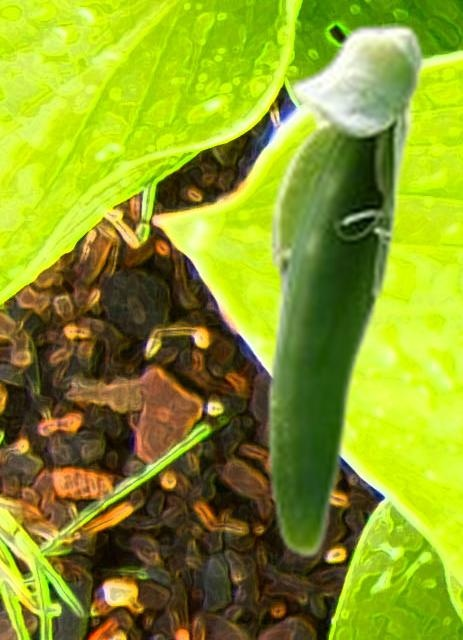pea: (265, 23, 426, 558)
